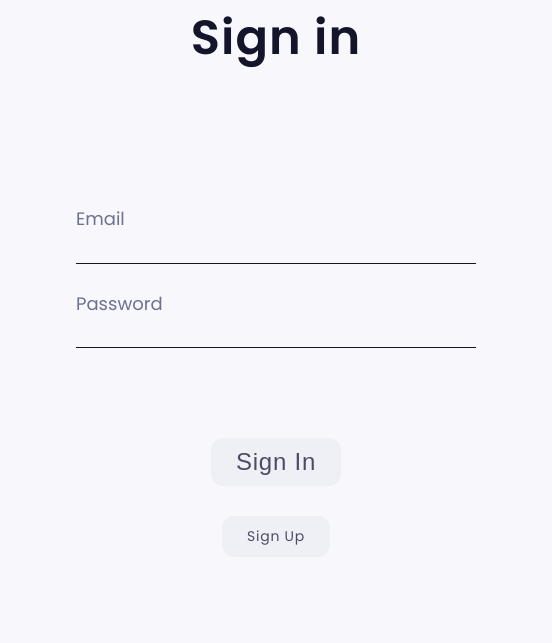
should signup with existing email
Click the link "Sign Up" at x=276, y=537, box [222,516,330,557]
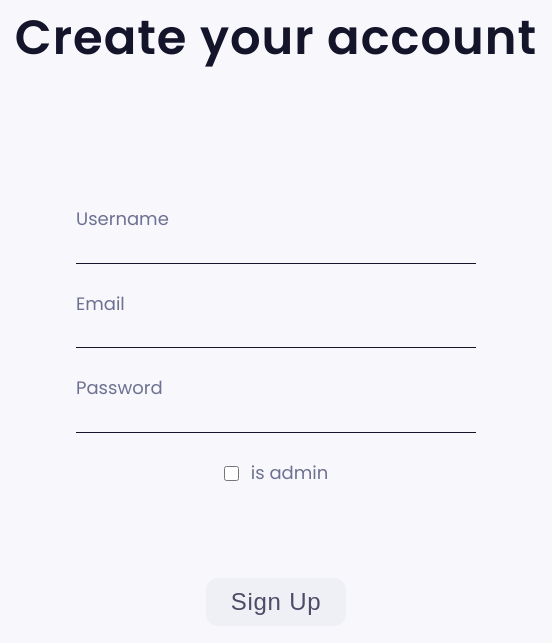
Type "ali" into the field labelled "Username" at x=276, y=249, box [76,235,476,264]
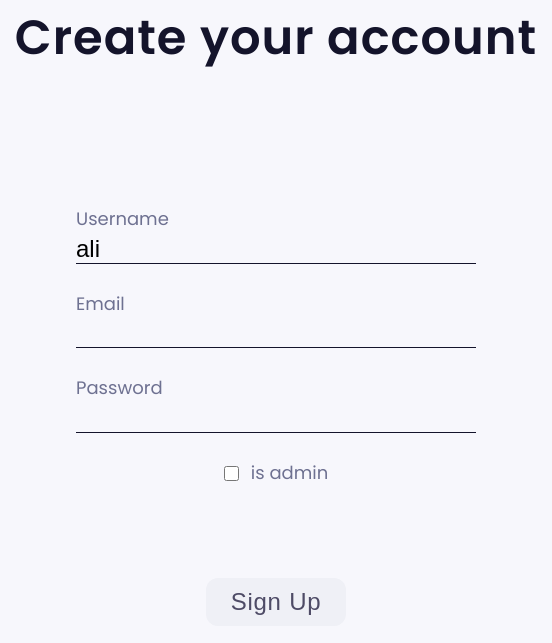
Type "ali@g" into the field labelled "Email" at x=276, y=334, box [76,319,476,348]
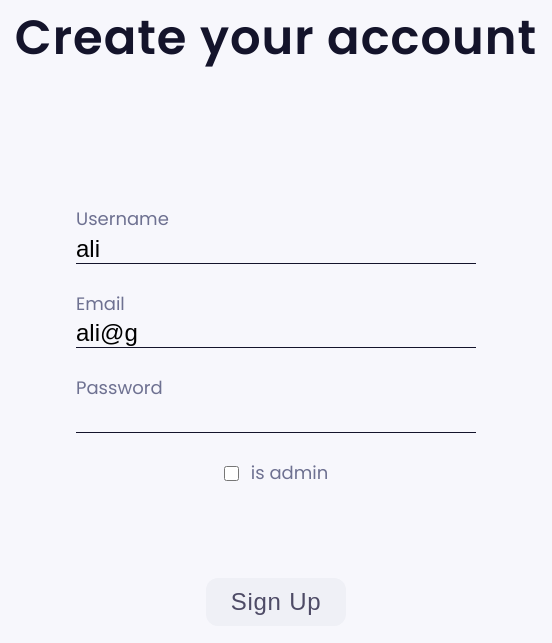
Type "123456" into the password field labelled "Password" at x=276, y=418, box [76,404,476,433]
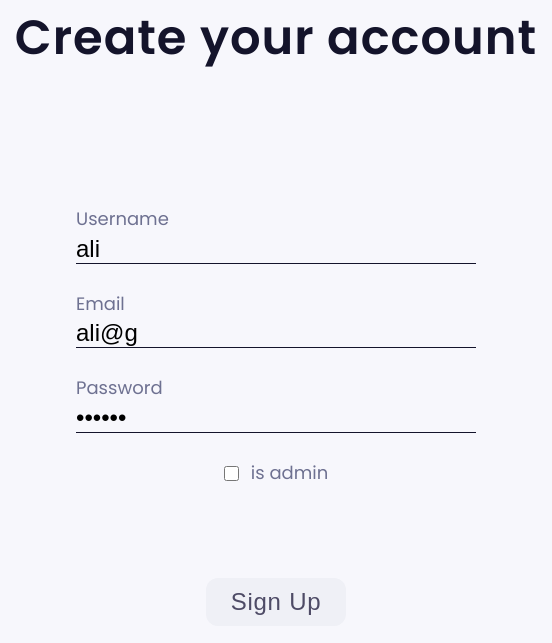
Click the checkbox labelled "is admin" at x=231, y=473, box [224,466,239,481]
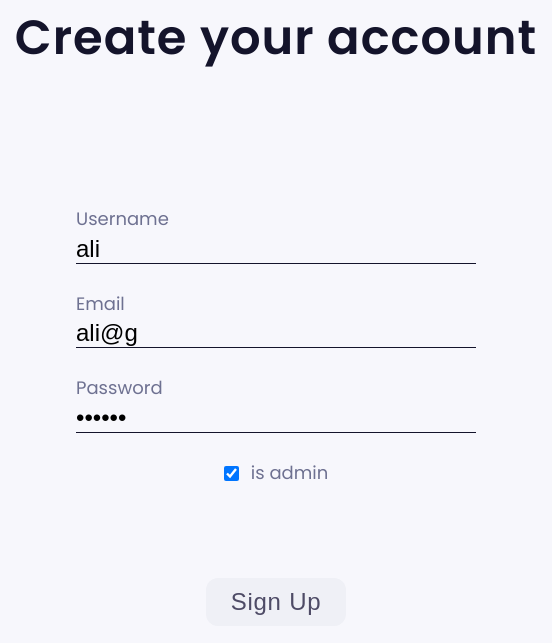
Check: the checkbox labelled "is admin" is checked, box [224,466,239,481]
Click the button "Sign Up" at x=276, y=602, box [206,578,346,626]
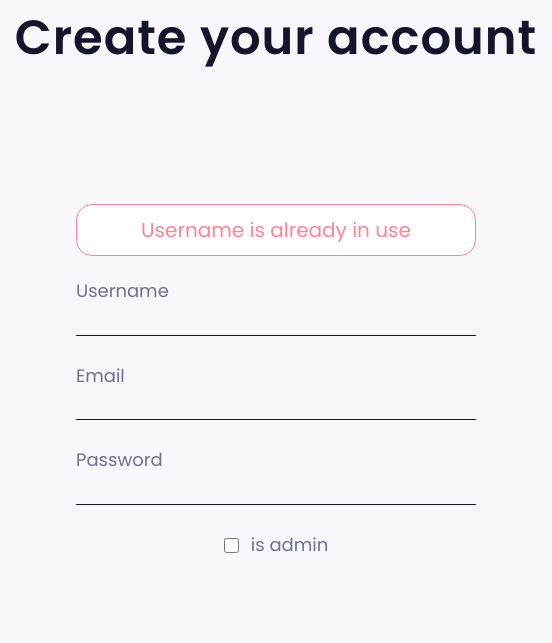
Check: the text "Username is already in use" is shown, box [76,204,476,256]
